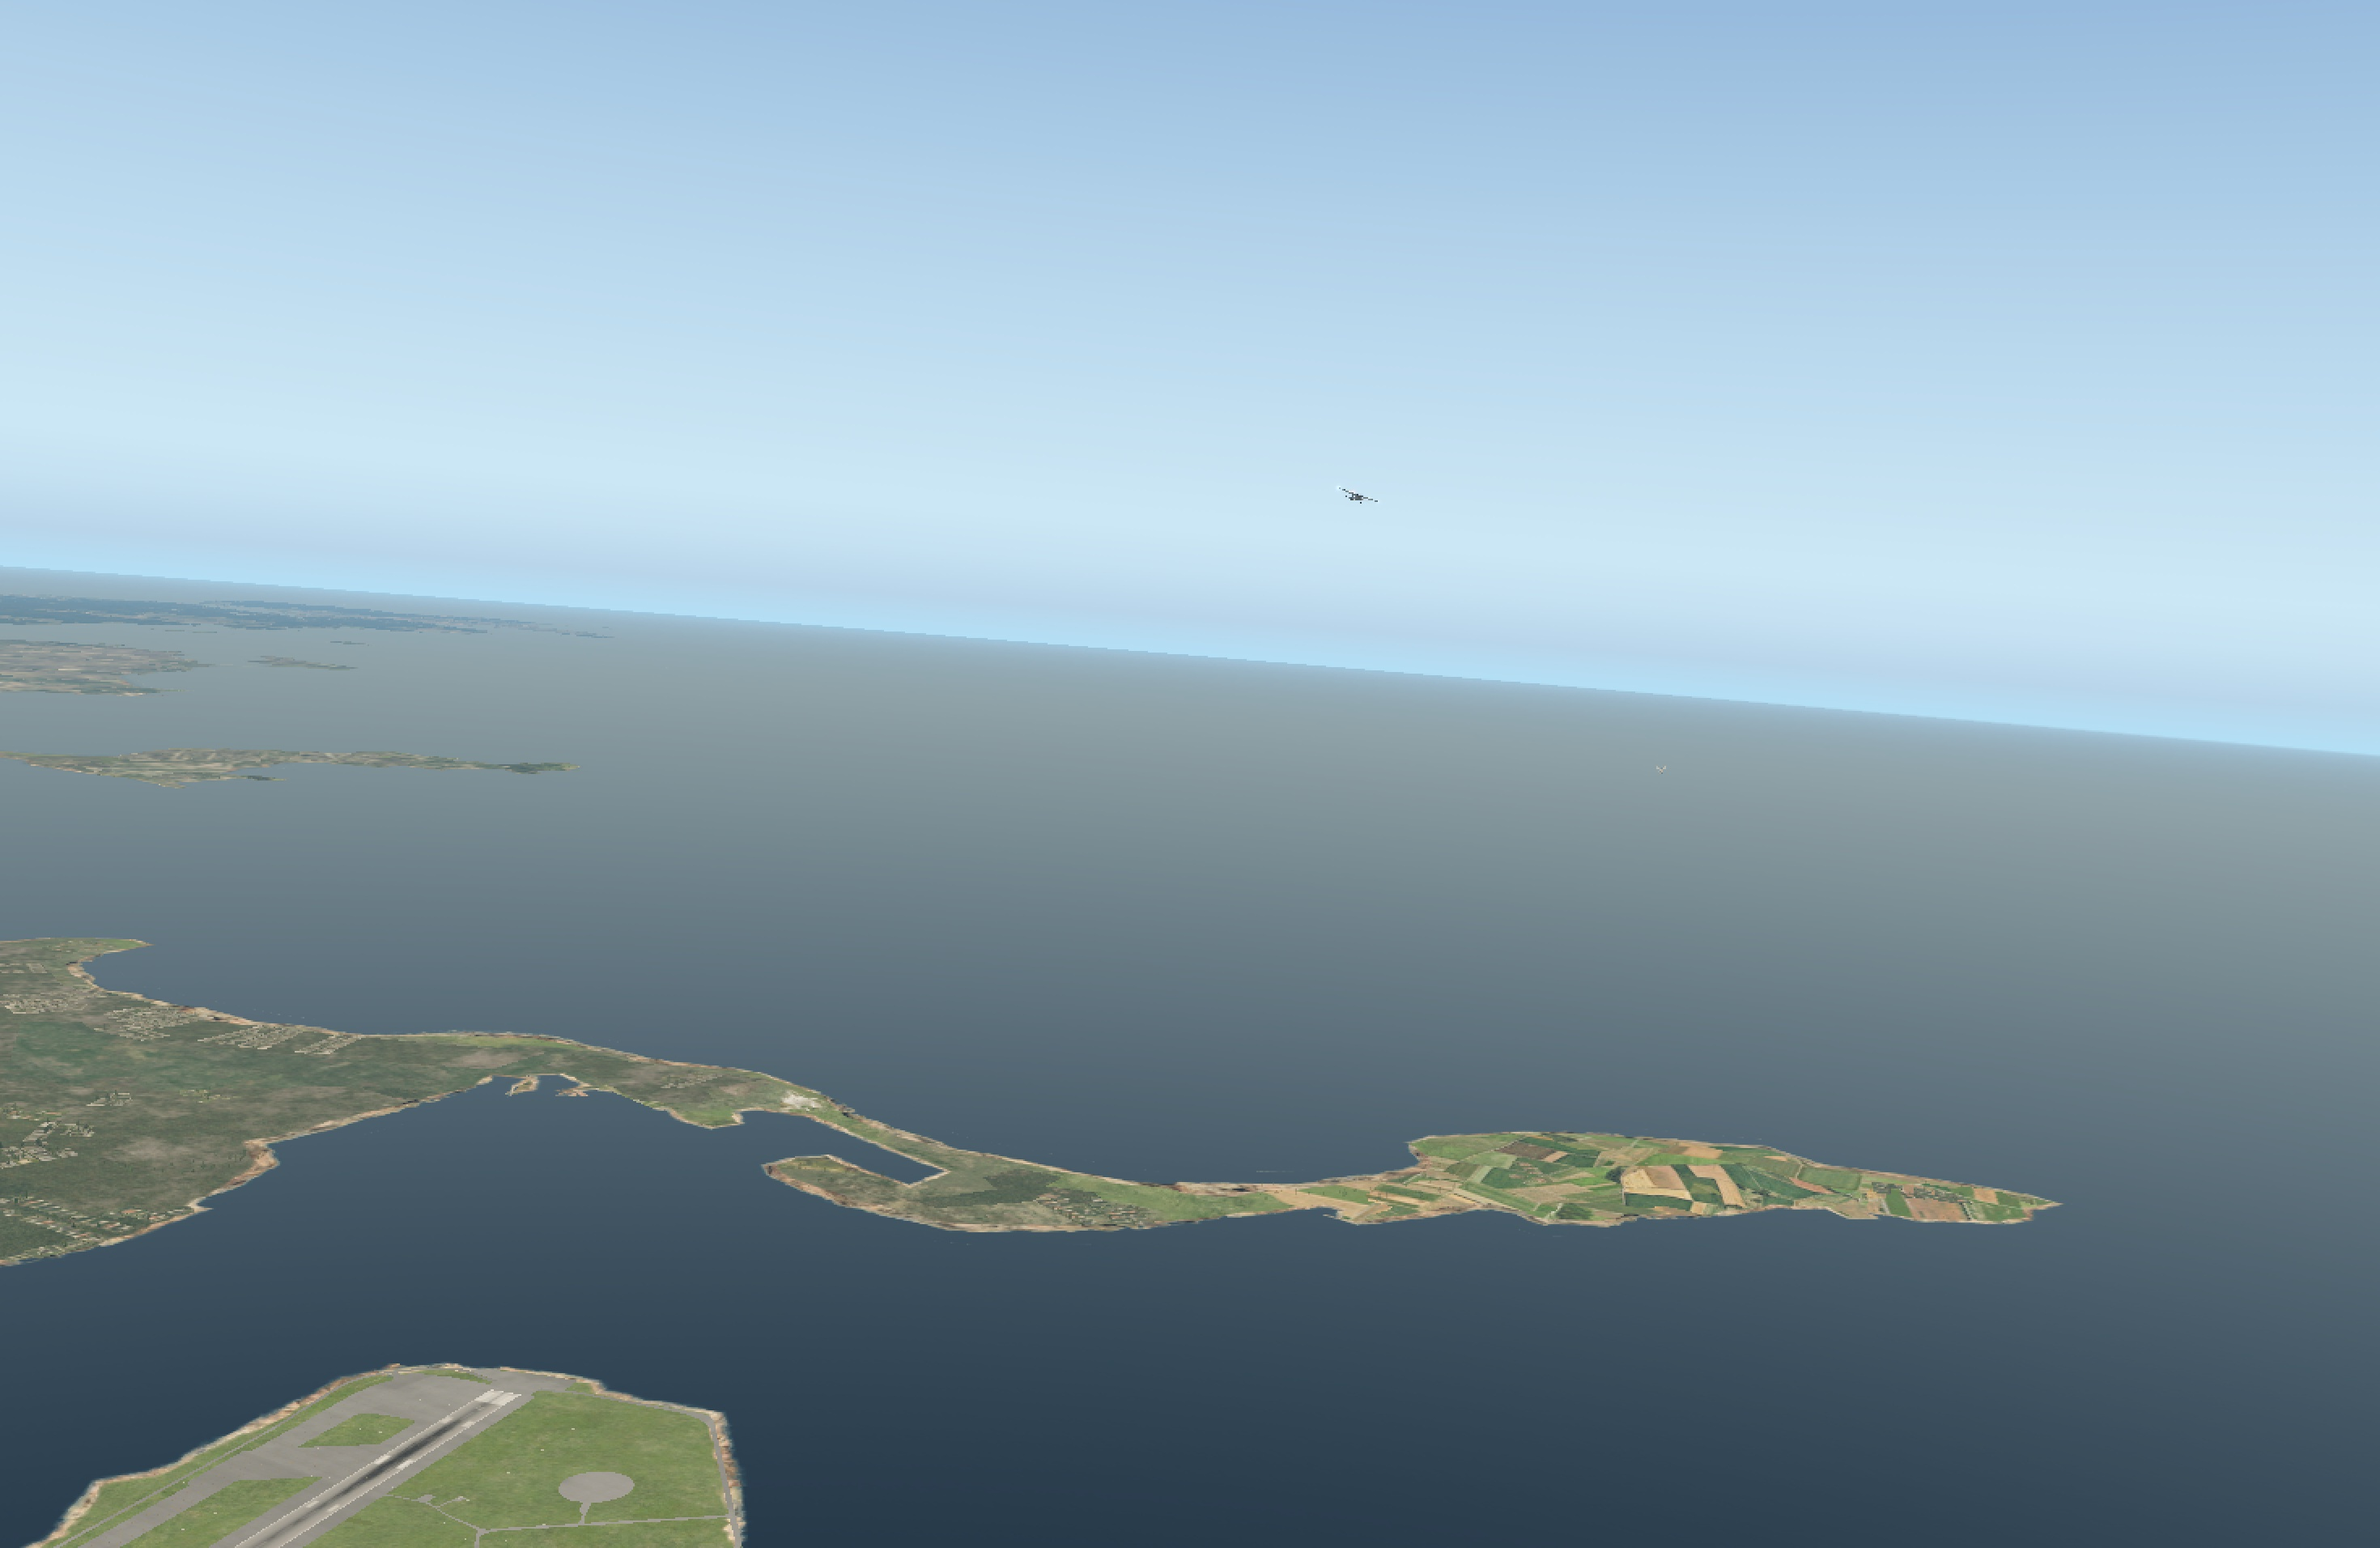aircraft: (1343, 491, 1374, 503)
